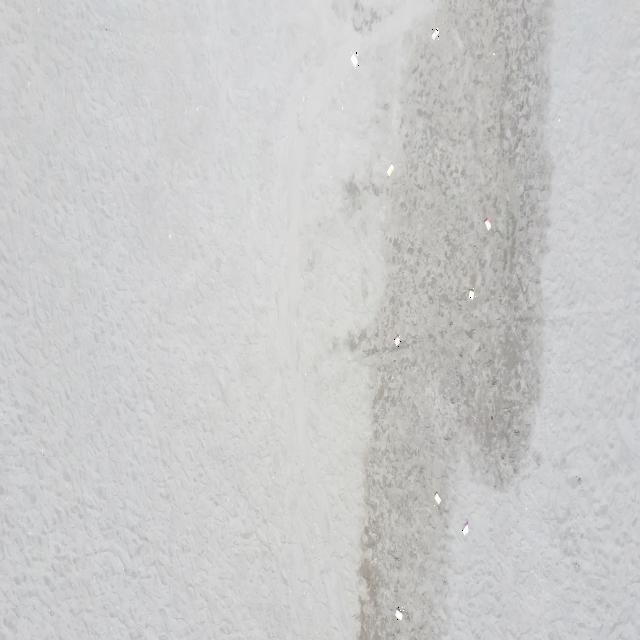Garbage: (395, 607, 403, 620), (431, 27, 439, 40), (393, 335, 400, 347), (433, 492, 440, 504), (484, 218, 491, 230), (350, 51, 355, 67), (387, 163, 393, 176), (462, 520, 467, 535), (467, 288, 473, 299)
